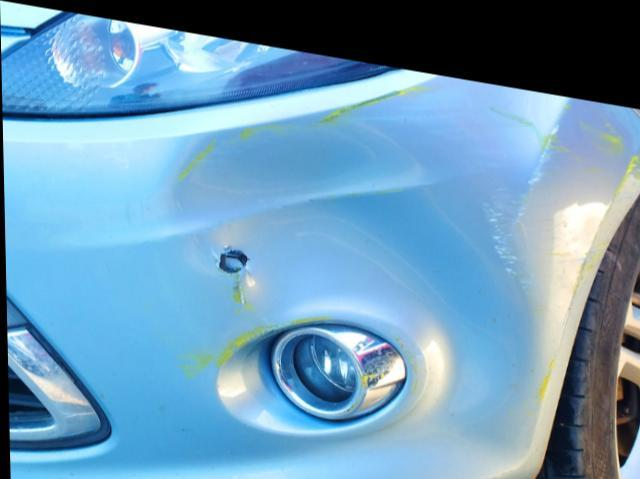dent: (168, 103, 529, 405)
scratch: (478, 71, 640, 298), (398, 459, 487, 479)
